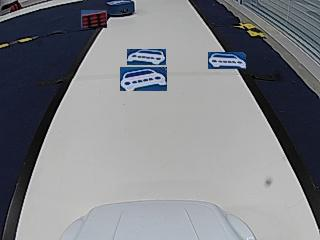prop: (107, 1, 135, 17)
